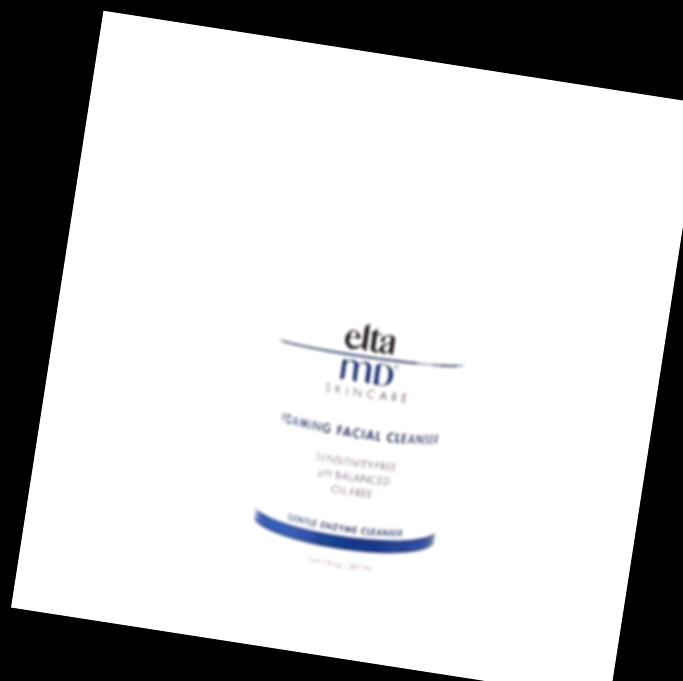cosmetic: (246, 96, 502, 620)
